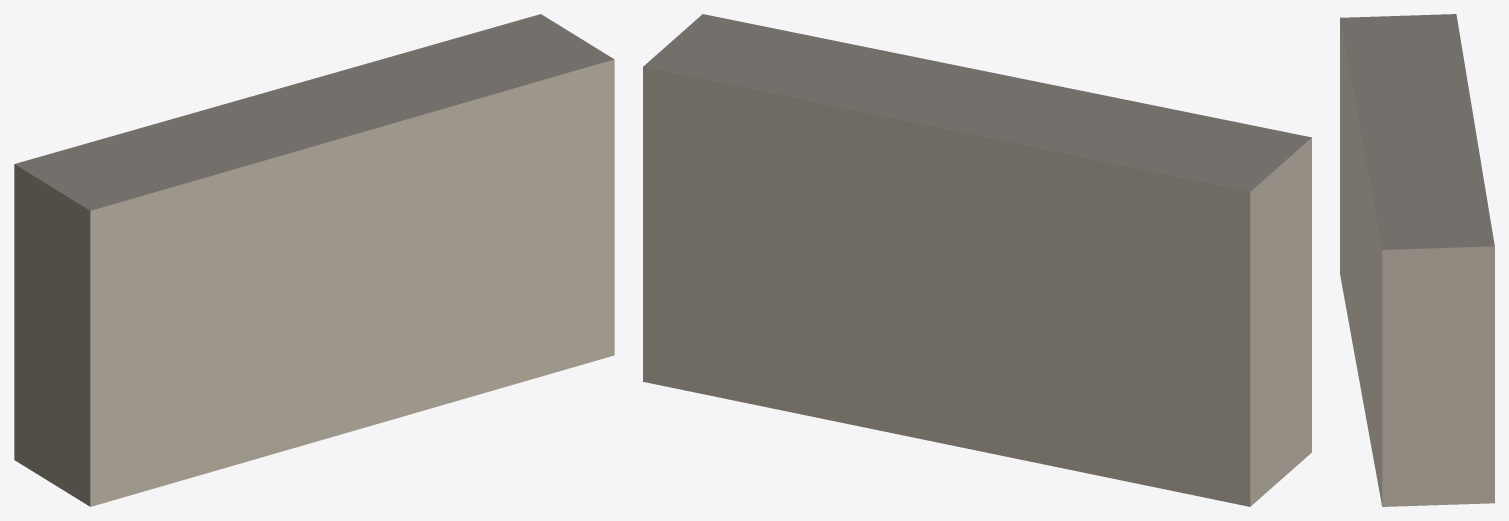
3 views of the same model, side by side, from view 1: azimuth 30°, elevation 25°; view 2: azimuth 150°, elevation 25°; view 3: azimuth 270°, elevation 25° (orthographic). The views are drawn at different scales.
Parts seen in each view (by area): view 1: HP-w858824310; view 2: HP-w858824310; view 3: HP-w858824310.
Part boxes in pixels (bbox=[...]): HP-w858824310: bbox=[14, 14, 614, 506]; HP-w858824310: bbox=[643, 14, 1311, 506]; HP-w858824310: bbox=[1340, 14, 1494, 506].
Size of the model in its own units: 35.46 by 18 by 9.82.
